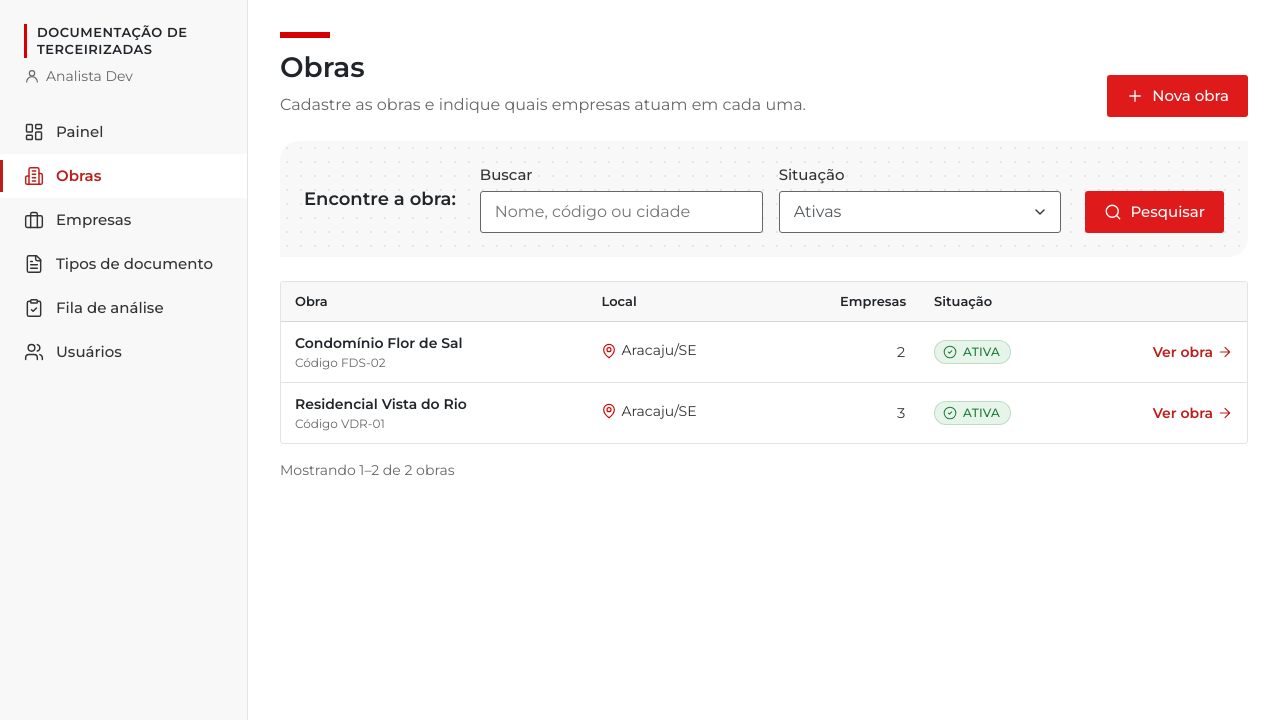
Obras › filtra por busca pelo padrão de filtros
Expected: the table named "Obras" is shown, x1=281 y1=282 x2=1247 y2=443
Type "flor" into the search field labelled "Buscar" at (621, 212), box x1=480 y1=191 x2=763 y2=233
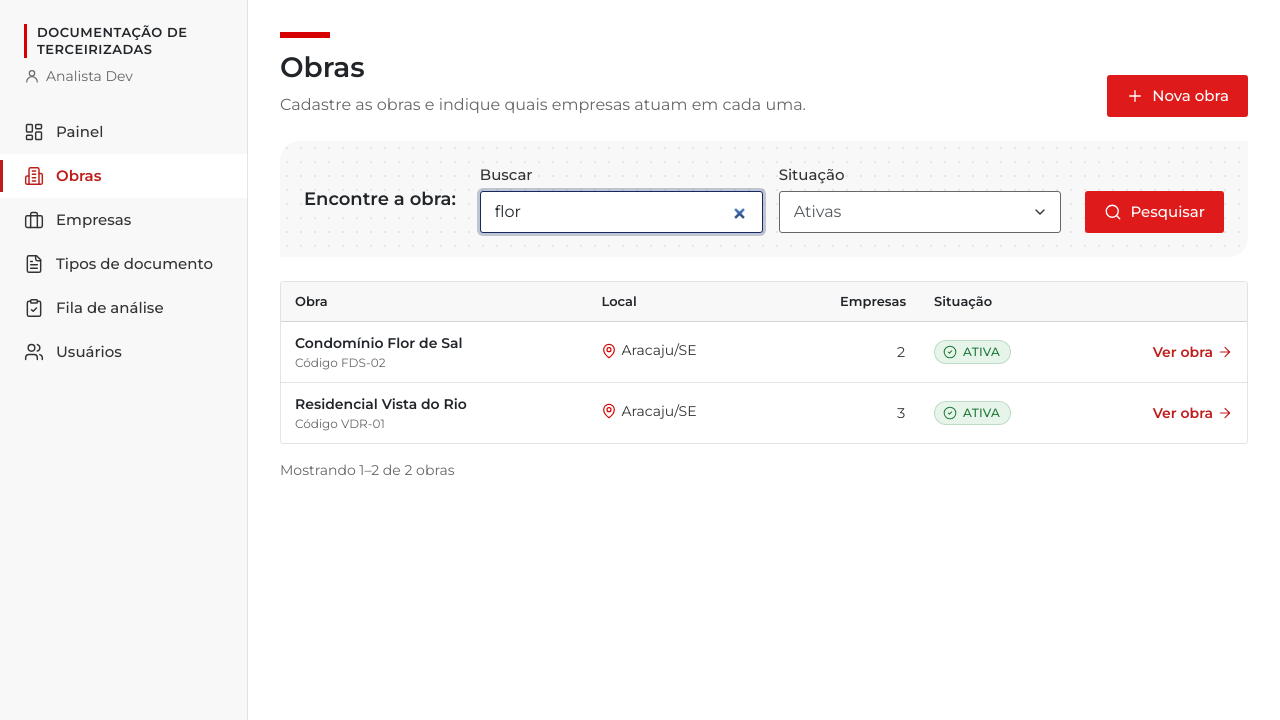
Click the button "Pesquisar" at (1155, 212), box x1=1085 y1=191 x2=1224 y2=233
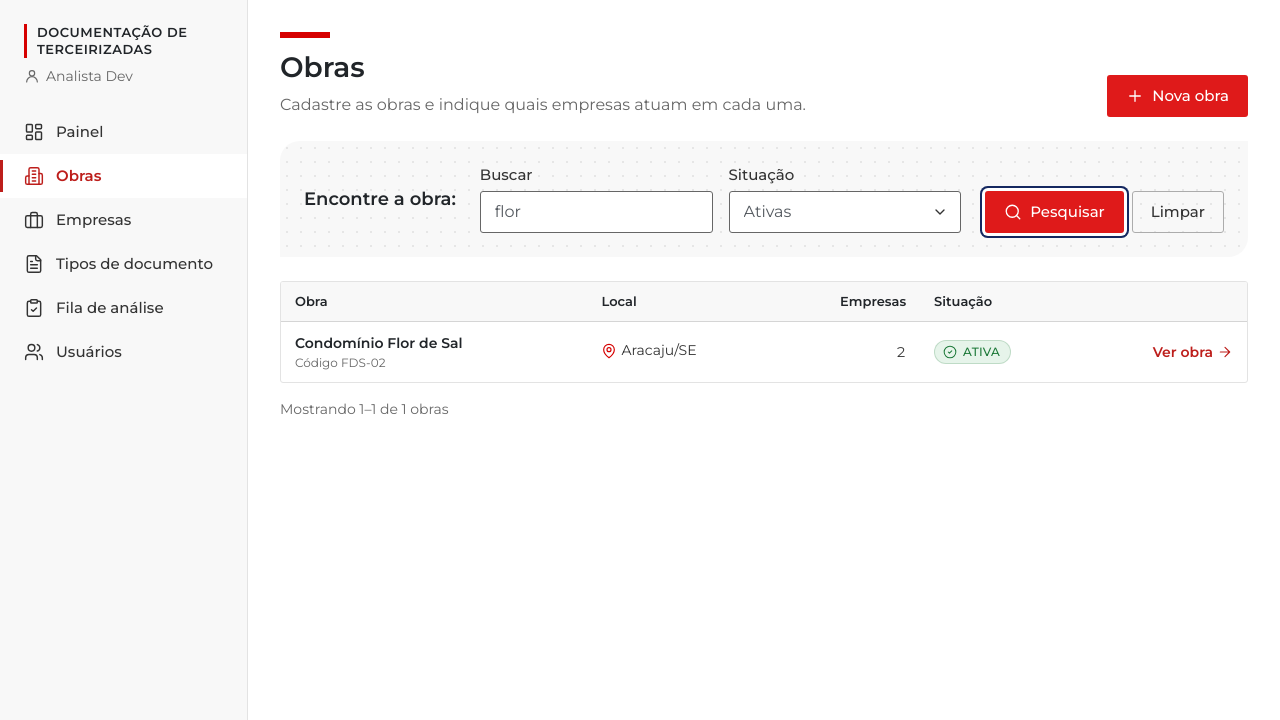
Expected: the link "Condomínio Flor de Sal" is shown, x1=295 y1=334 x2=463 y2=352
Now the link "Residencial Vista do Rio" is gone
